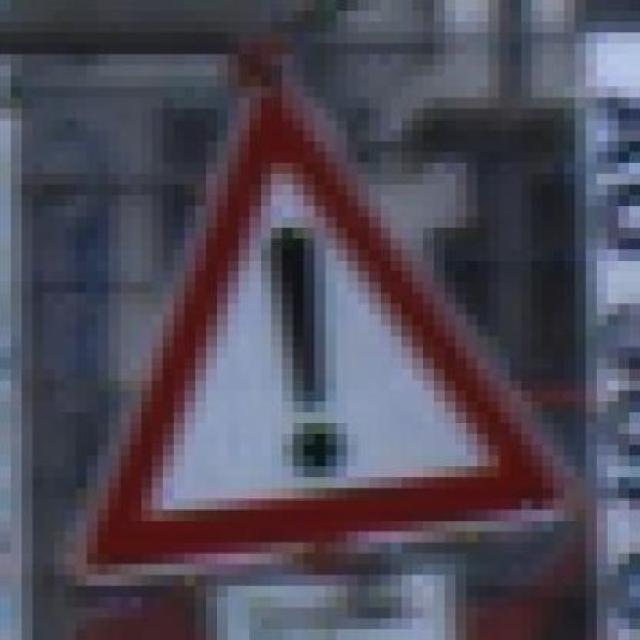Attention Please-: (32, 32, 597, 586)
